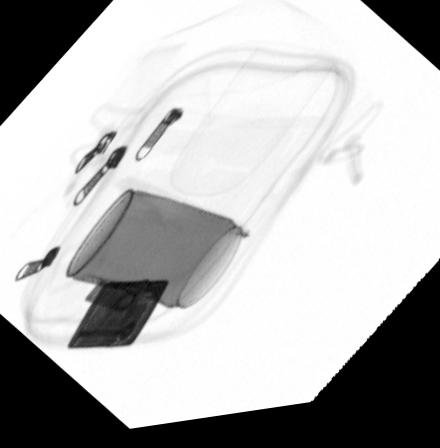Lighter: (65, 282, 172, 351)
